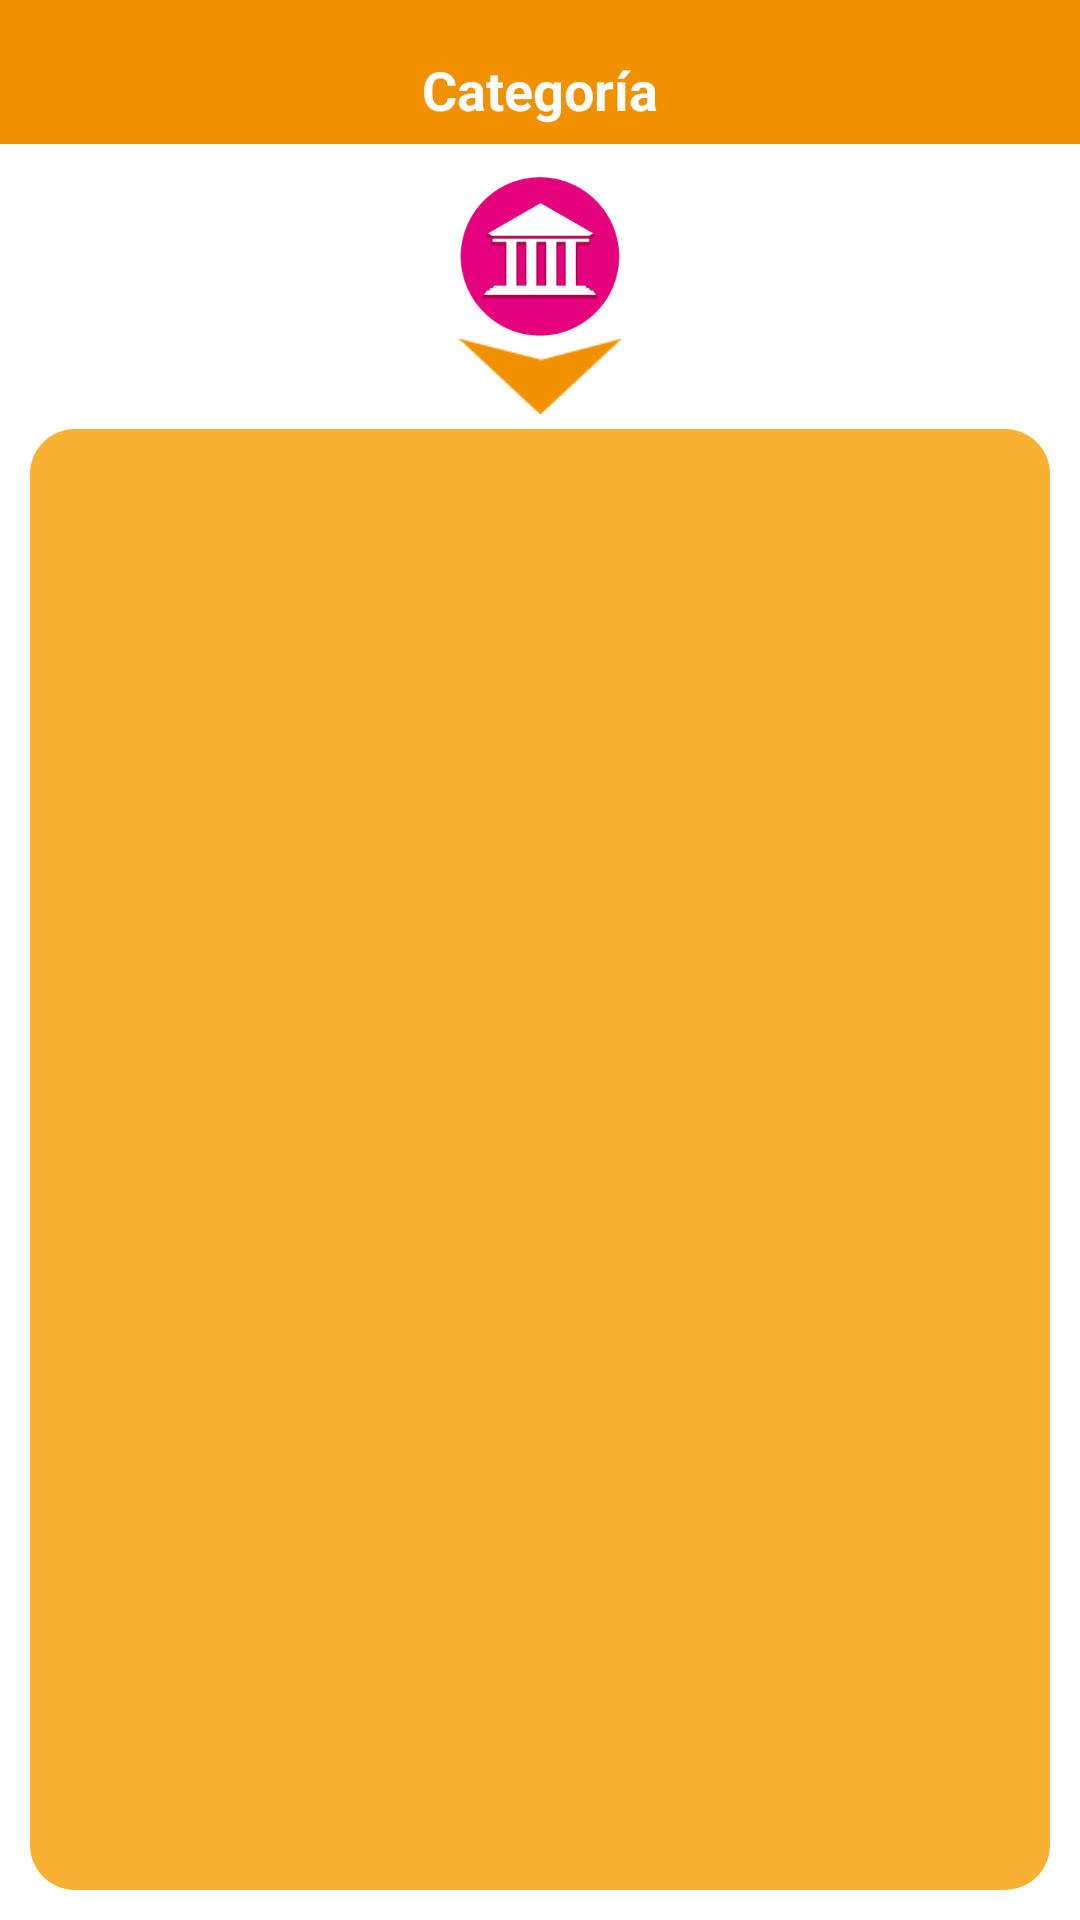

Named icons in this screenshot (1080px×1920px) and their centers, point (x, y):
flecha: point (540, 376)
museos: point (540, 256)
